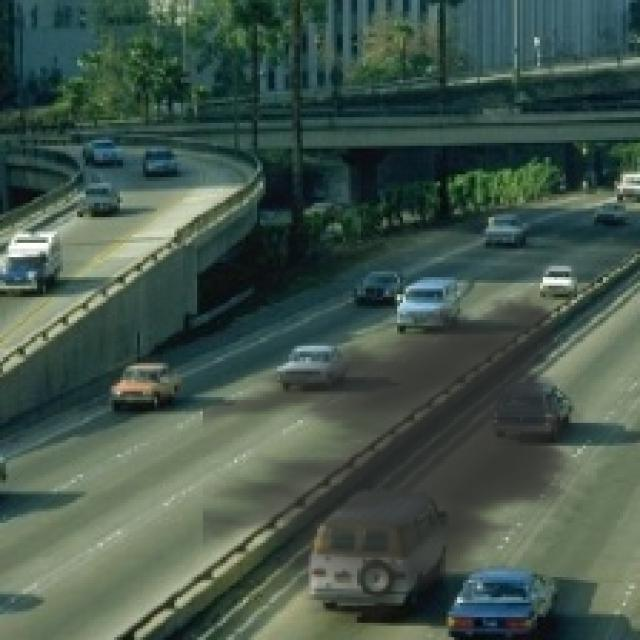smoke: (203, 280, 594, 634)
